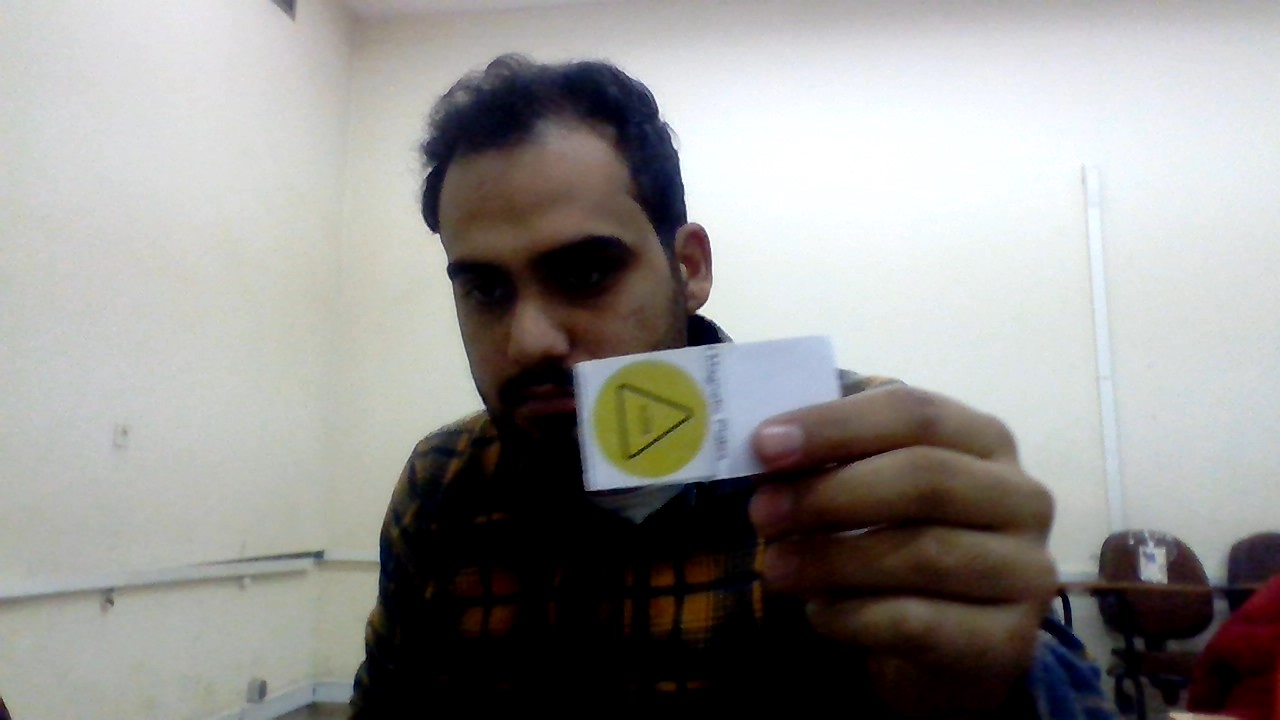hmc: (582, 364, 708, 476)
